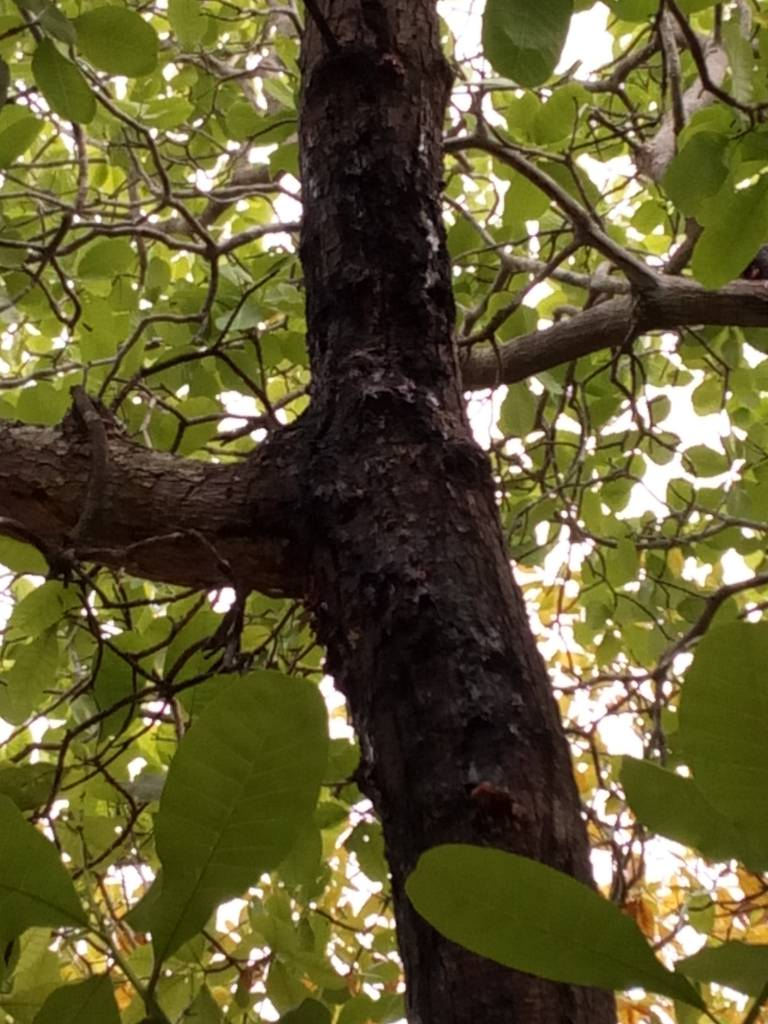Mecocorynus longiceps: (340, 541, 560, 726), (294, 154, 480, 319), (312, 343, 493, 489)
